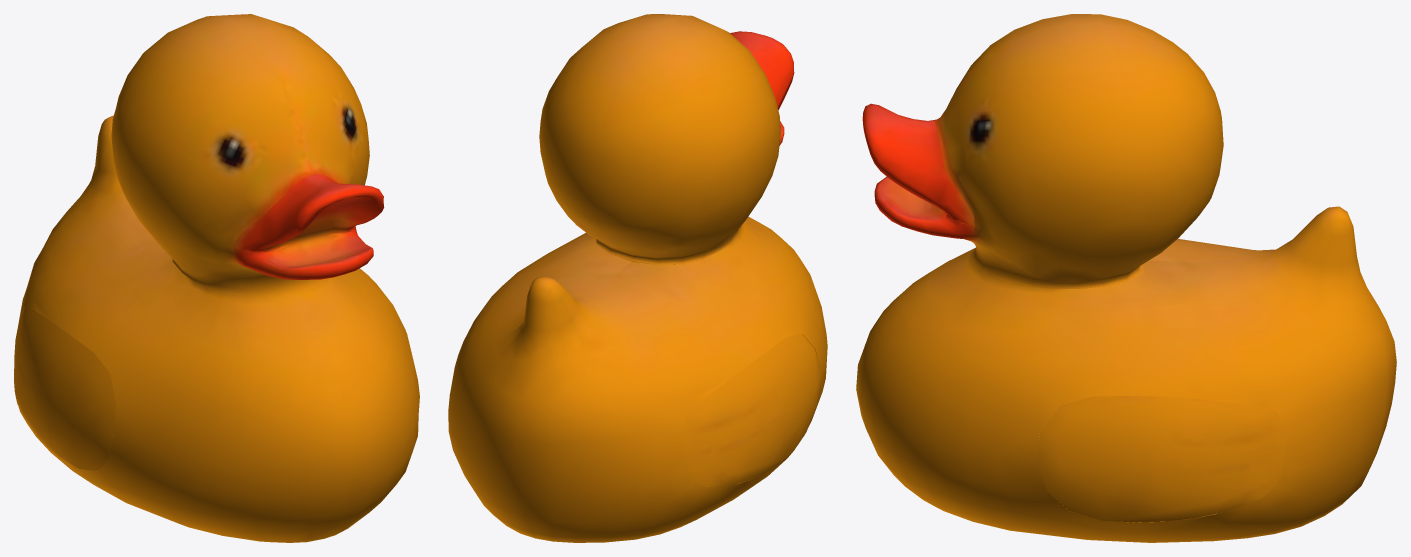
The model's file is rubber_duck_toy.glb.
3 renders of one model, left to right at view 1: azimuth 30°, elevation 25°; view 2: azimuth 150°, elevation 25°; view 3: azimuth 270°, elevation 25°, orthographic. The views are drawn at different scales.
Parts seen in each view (by area): view 1: rubber_duck_toy; view 2: rubber_duck_toy; view 3: rubber_duck_toy.
Boxes of the visible parts, box(x1,y1,x2,y2) form: rubber_duck_toy: box(14, 14, 419, 542); rubber_duck_toy: box(448, 14, 827, 542); rubber_duck_toy: box(856, 14, 1396, 542).
Size of the model in its own units: 0.2135 by 0.2855 by 0.3.
Materials: 1 (1 with a texture image).
